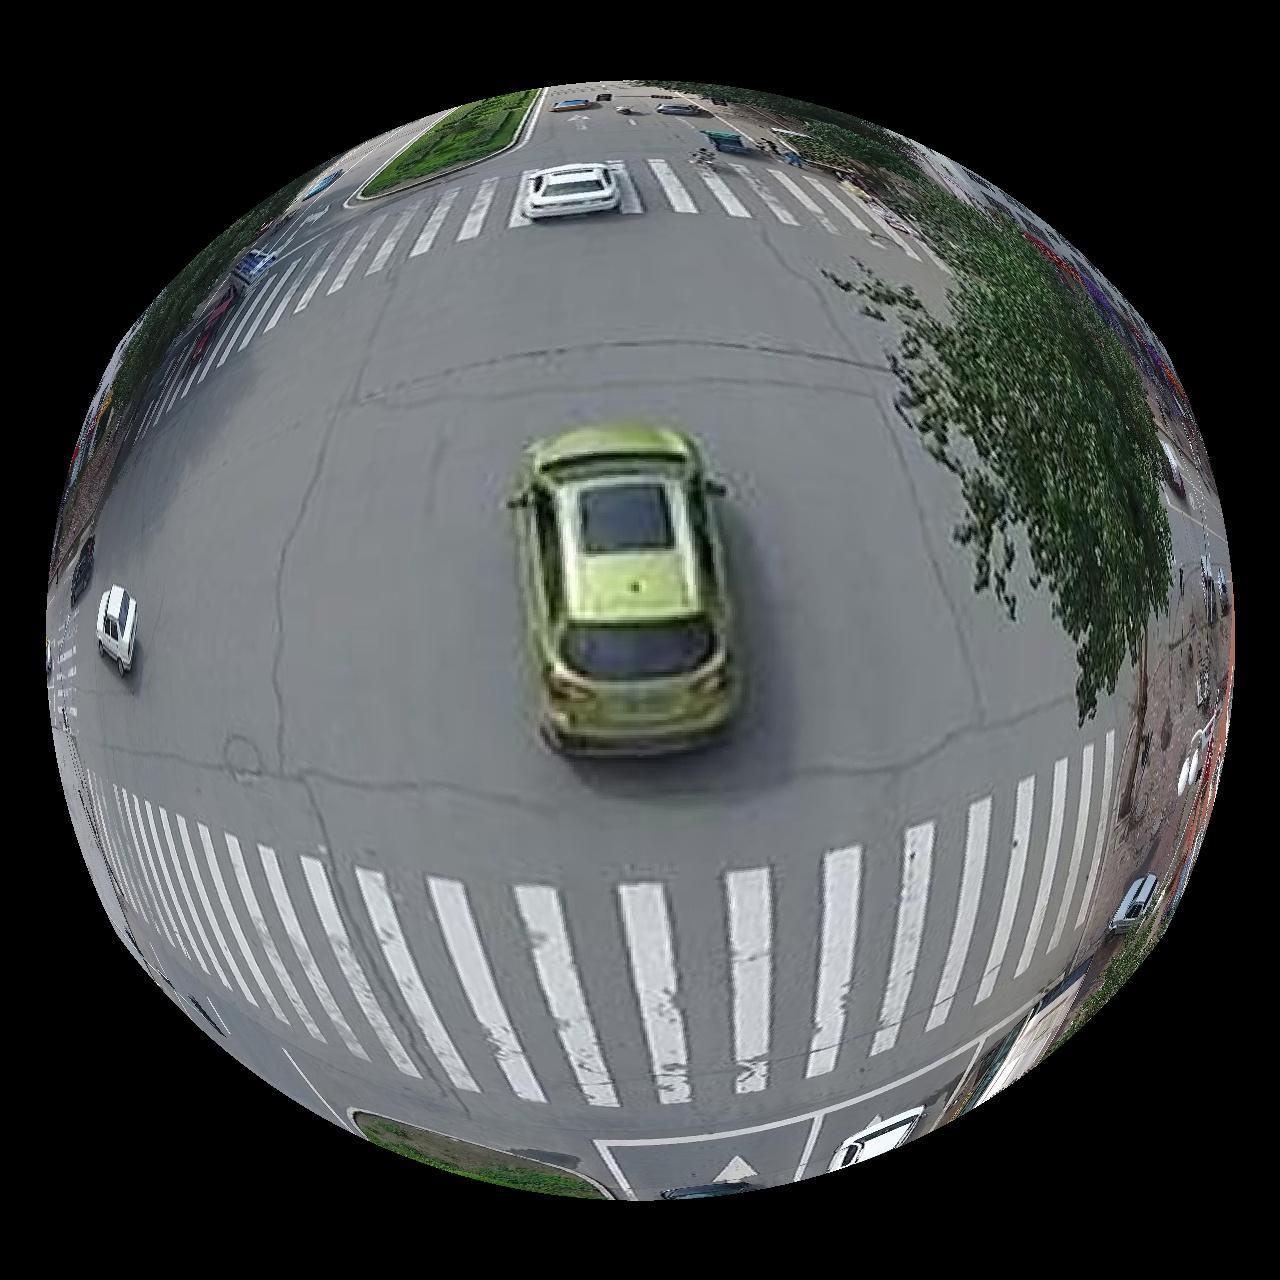cars: (510, 422, 741, 756), (523, 162, 620, 218), (95, 585, 137, 675)
trees: (816, 123, 1173, 717), (356, 88, 540, 197)
